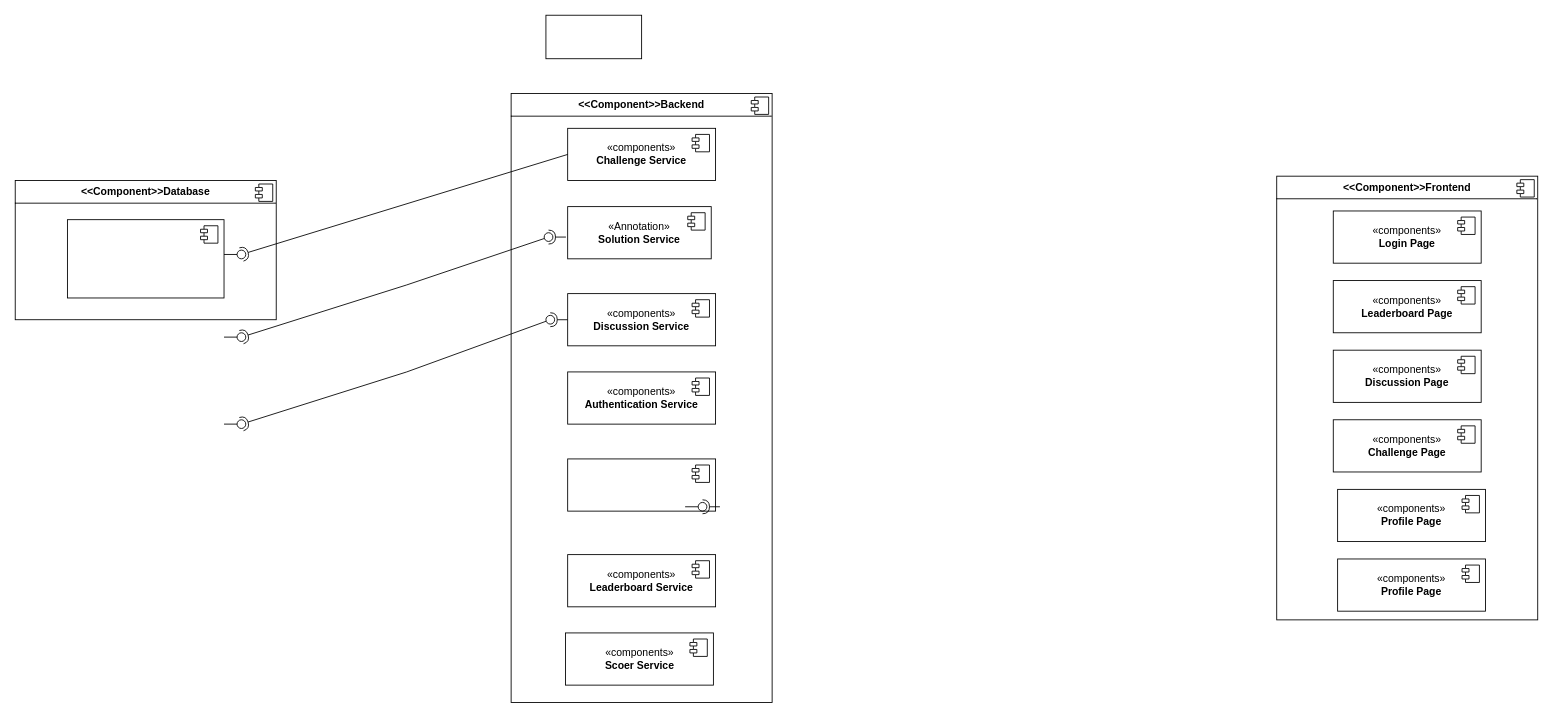
Some shapes in this 1553 by 718 pixel diagram are drawn without their labels. Each missing label, with the centre of its shape:
"Object" belongs at point (593, 36).
"«Annotation» Website" belongs at point (145, 258).
"«components» User Service" belongs at point (641, 484).
